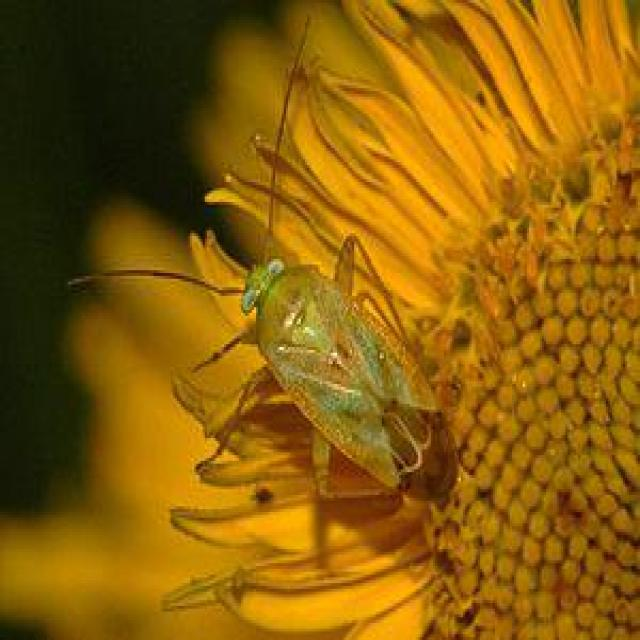Miridae-Adult-: (57, 11, 466, 530)
